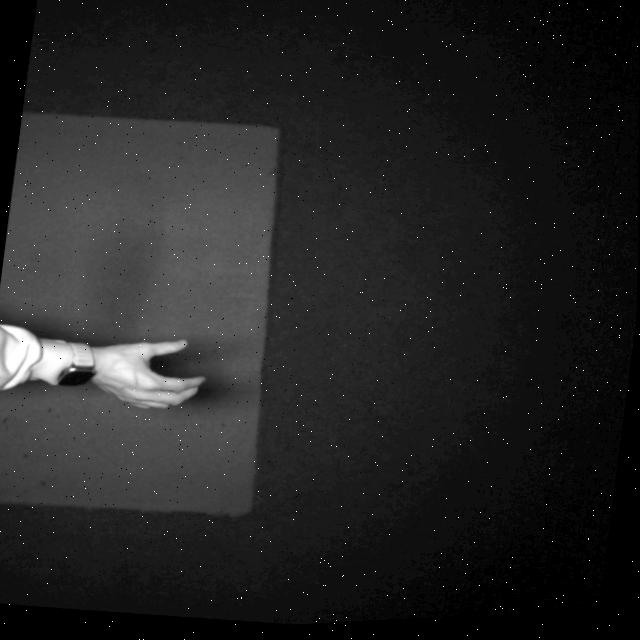hand: (88, 323, 211, 423)
